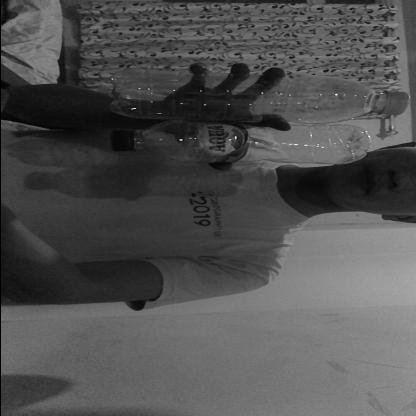plastic_bottles: (107, 66, 406, 122), (111, 123, 371, 167)
